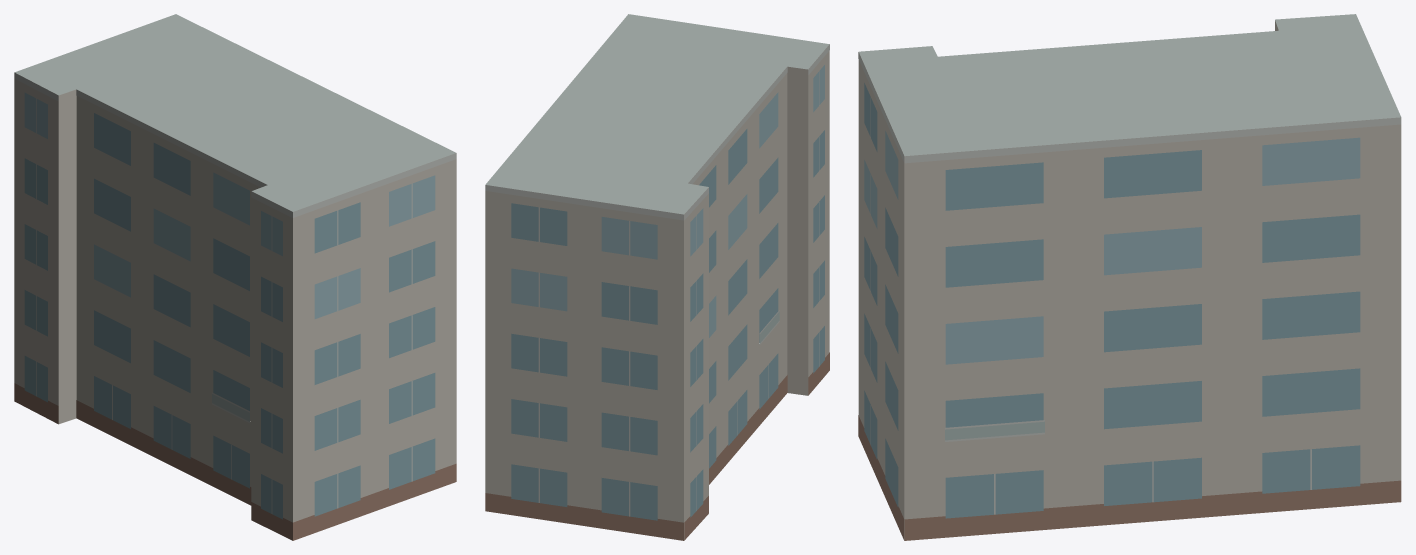
The model's file is survey-upis-32882590.glb.
3 renders of one model, left to right at view 1: azimuth 30°, elevation 25°; view 2: azimuth 150°, elevation 25°; view 3: azimuth 270°, elevation 25°, orthographic. The views are drawn at different scales.
Visible parts, largest first — view 1: survey-upis-32882590.tmp; view 2: survey-upis-32882590.tmp; view 3: survey-upis-32882590.tmp.
Part boxes in pixels (<box>): survey-upis-32882590.tmp: <box>14,14,456,540</box>; survey-upis-32882590.tmp: <box>485,14,829,540</box>; survey-upis-32882590.tmp: <box>858,14,1401,540</box>.
Bounding box in the file's own units: 10.44 × 13.15 × 16.83.
